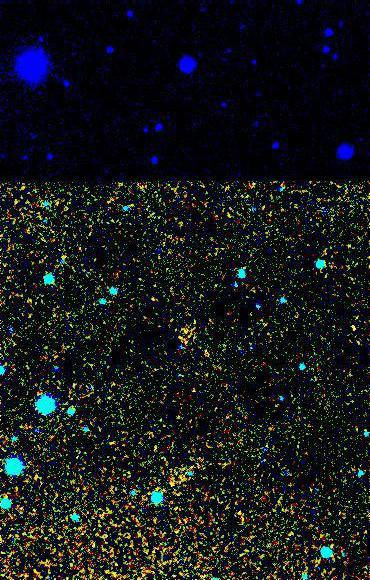star: (157, 471, 187, 501)
